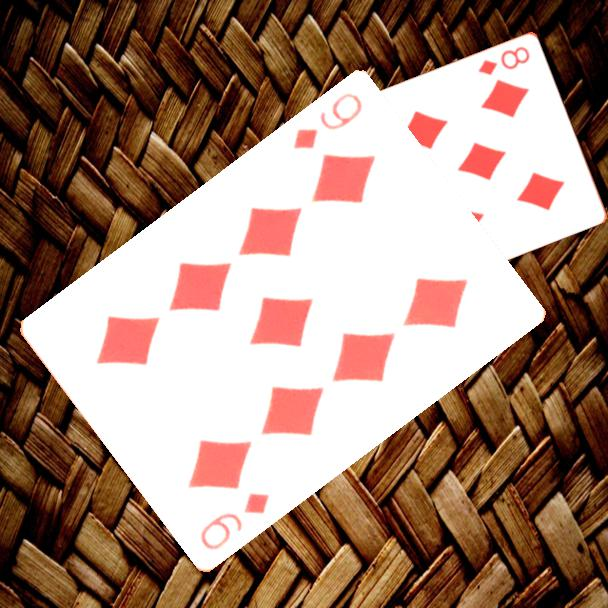d08: (475, 42, 533, 78)
d09: (196, 489, 272, 554), (289, 89, 365, 153)
